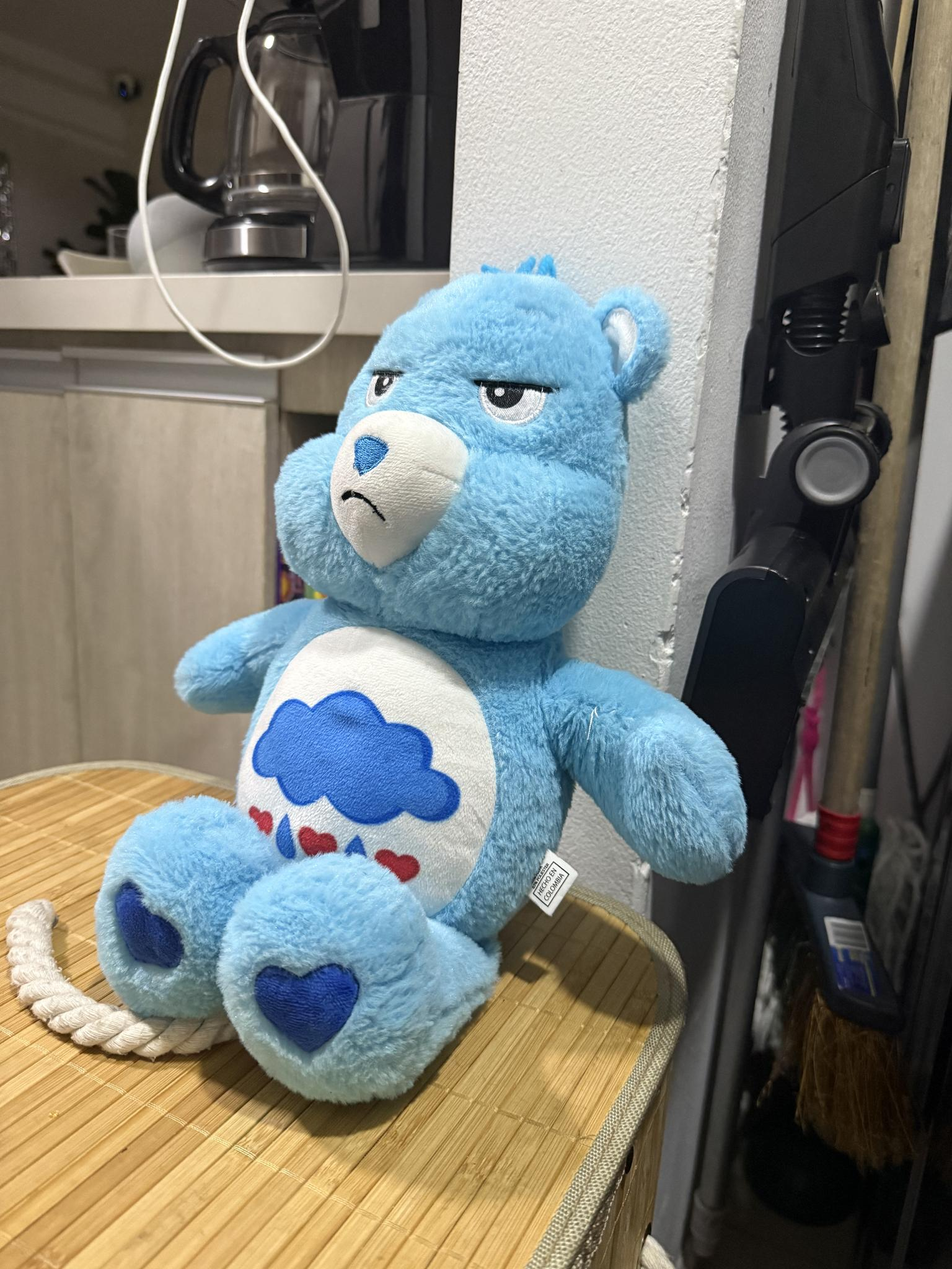peluche_Juan Jose: (102, 255, 751, 1111)
